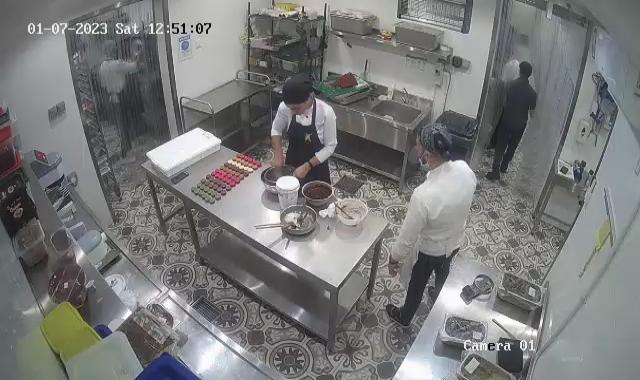no_hairnet: (416, 124, 454, 165), (283, 76, 318, 113), (517, 61, 534, 82)
